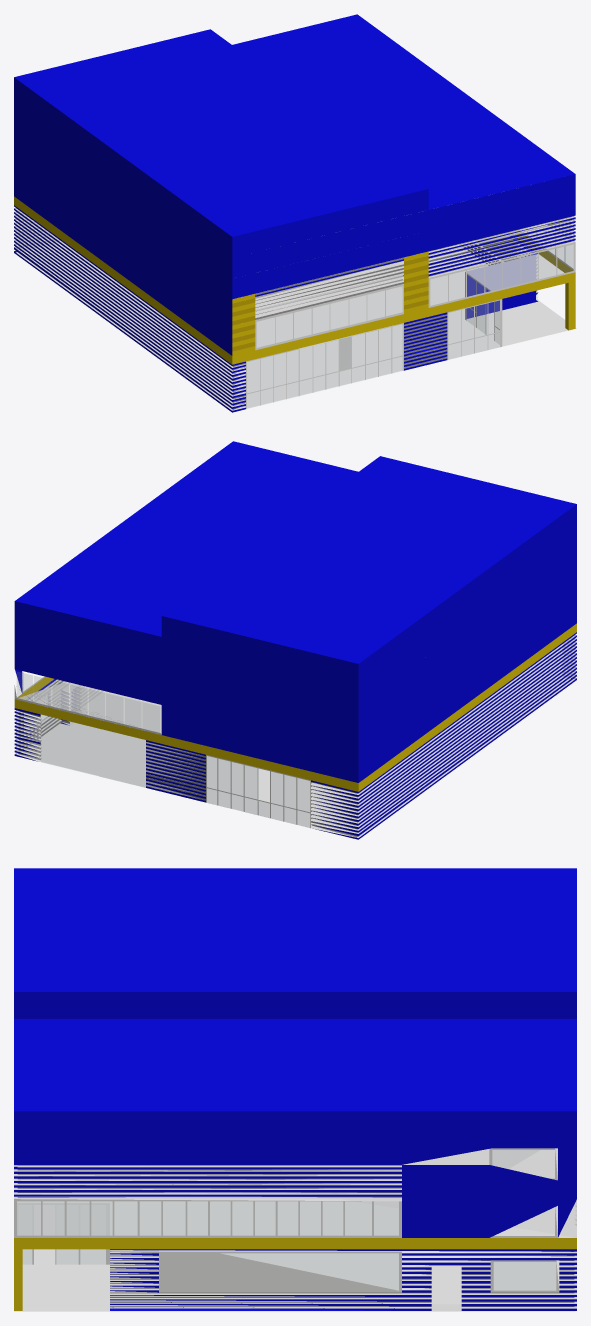
File: industry-factory.glb
3 views of the same model, one above another, from view 1: azimuth 30°, elevation 25°; view 2: azimuth 150°, elevation 25°; view 3: azimuth 270°, elevation 25° (orthographic). The views are drawn at different scales.
Parts seen in each view (by area): view 1: Node1, Node12, Node70, Node23, Node31, Node69, Node518; view 2: Node1, Node12, Node70, Node23, Node31, Node69; view 3: Node1, Node12, Node70, Node69, Node31, Node23.
Boxes of the visible parts, box(x1,y1,x2,y2) form: Node1: box(14, 14, 575, 412); Node12: box(14, 208, 576, 410); Node70: box(247, 229, 573, 408); Node23: box(14, 196, 575, 364); Node31: box(16, 210, 571, 409); Node69: box(246, 226, 575, 409); Node518: box(232, 256, 428, 351); Node1: box(14, 441, 576, 839); Node12: box(14, 635, 576, 837); Node70: box(17, 672, 309, 827); Node23: box(14, 623, 576, 791); Node31: box(18, 637, 573, 837); Node69: box(22, 658, 549, 827); Node1: box(14, 868, 576, 1310); Node12: box(14, 1148, 576, 1311); Node70: box(17, 1150, 555, 1290); Node69: box(14, 1148, 559, 1292); Node31: box(17, 1165, 576, 1306); Node23: box(14, 1238, 576, 1310).
Size of the model in its own units: 1010 by 492 by 1108.
